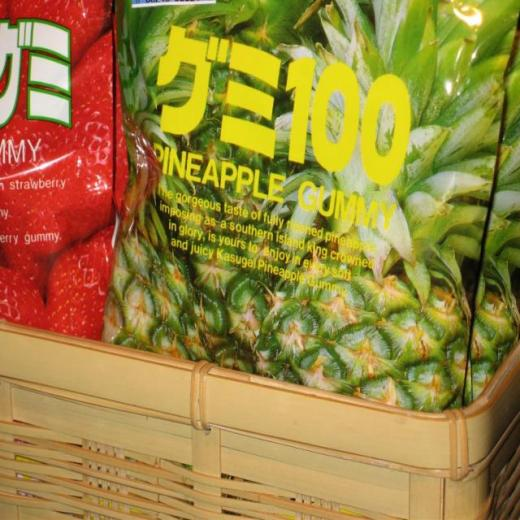Mango: (260, 0, 520, 418), (102, 0, 293, 370)
